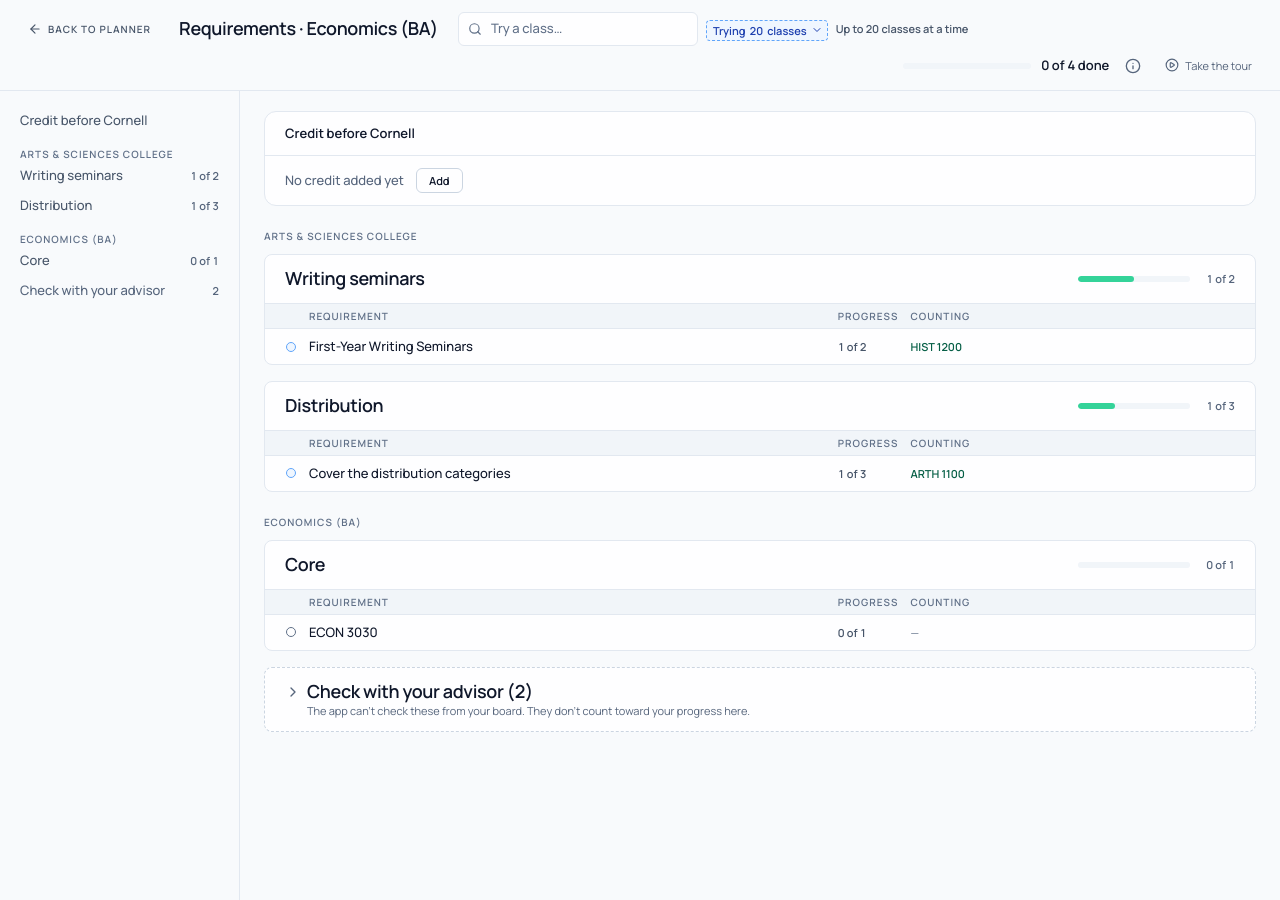
Test case: RequirementsPage — the side panel (D3) › at the cap, Try is disabled and says why
Click the button "Cover the distribution categories 1 of 3 ARTH 1100" at point(410, 473), box 265,456 -> 1255,491
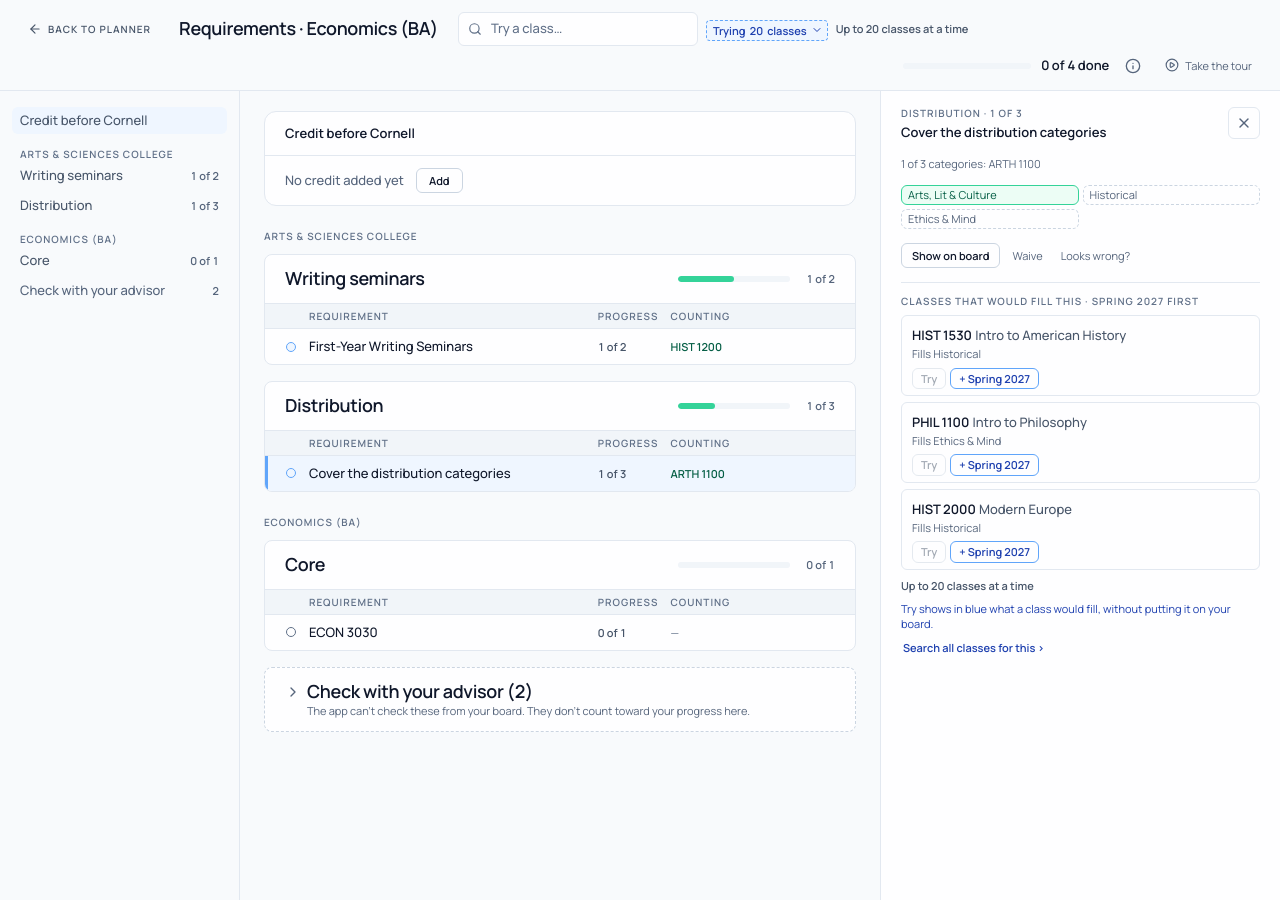
Check: the message "Up to 20 classes at a time" below "HIST 2000" is shown, box 901,578 -> 1034,593
Check: the button "Try" below "HIST 2000" is disabled, box 912,541 -> 946,563
